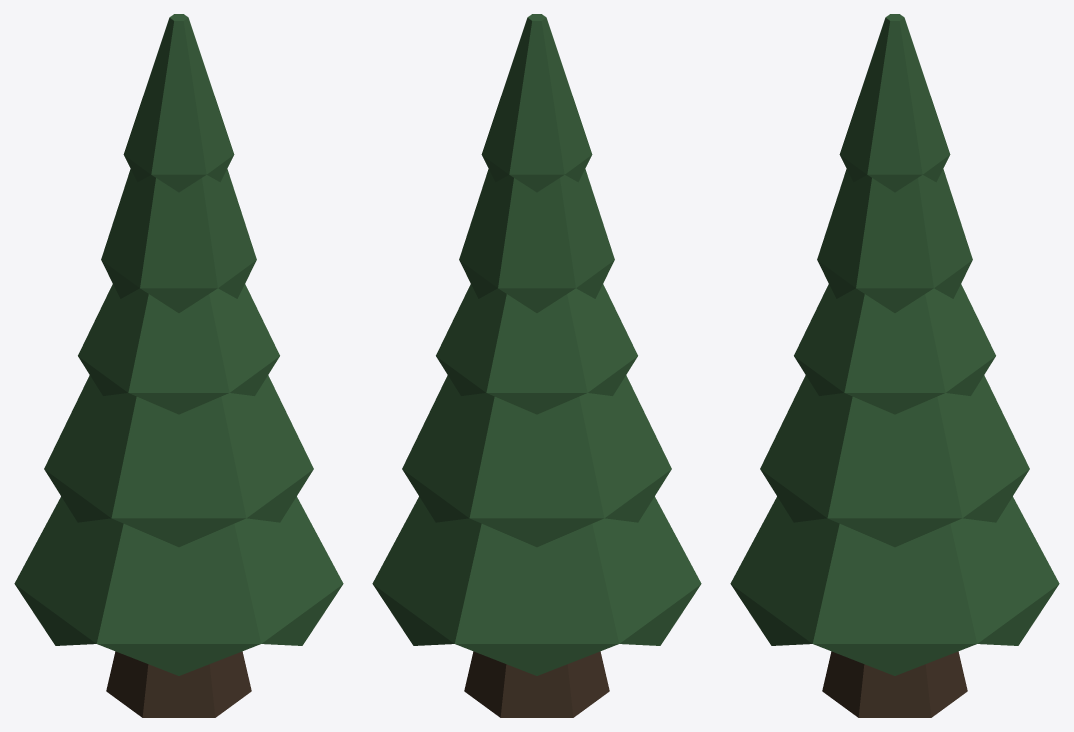
Rendered from nature-conifer-round.glb.
3 views of the same model, side by side, from view 1: azimuth 30°, elevation 25°; view 2: azimuth 150°, elevation 25°; view 3: azimuth 270°, elevation 25° (orthographic).
Parts seen in each view (by area): view 1: tree_pineRoundC; view 2: tree_pineRoundC; view 3: tree_pineRoundC.
Part boxes in pixels (x1,y1,x2,y2): tree_pineRoundC: (14,14,343,717); tree_pineRoundC: (372,14,701,717); tree_pineRoundC: (730,14,1059,717).
Bounding box in the file's own units: 0.4804 × 1.25 × 0.5547.
